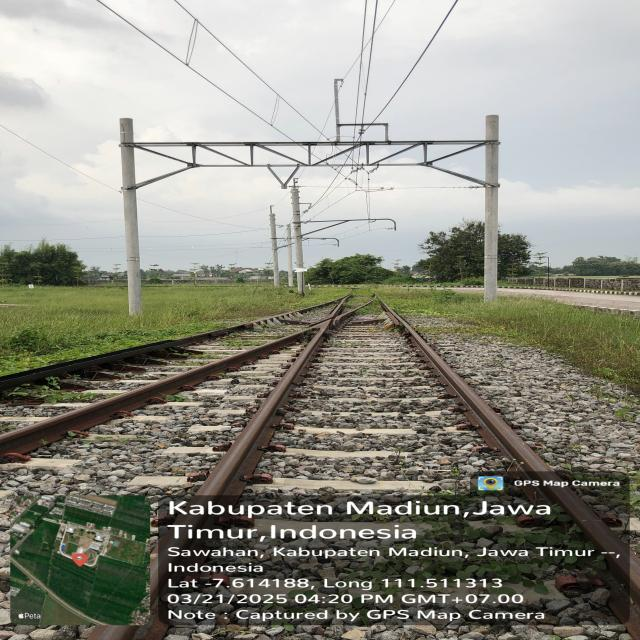rail-detection: (386, 307, 640, 601), (0, 332, 304, 454), (196, 316, 335, 496), (0, 313, 292, 388), (248, 433, 257, 441)
